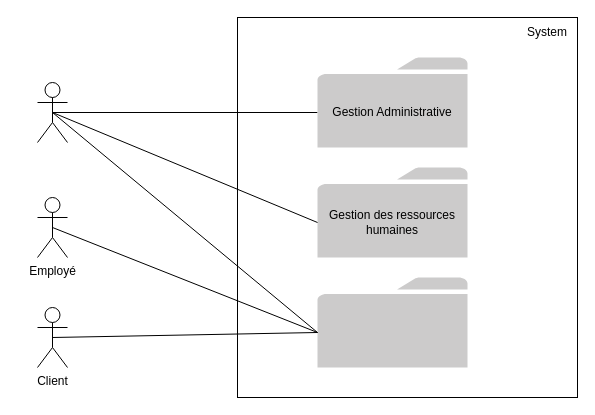
The diagram is 595 pixels wide and 415 high, and some of its shapes have lost their labels. Here are the shapes that lost their labels. From the top down, the centre of each, then its label:
At pixel 52 112: "Responsable".
At pixel 392 322: "Gestion des dossiers des résidents".
